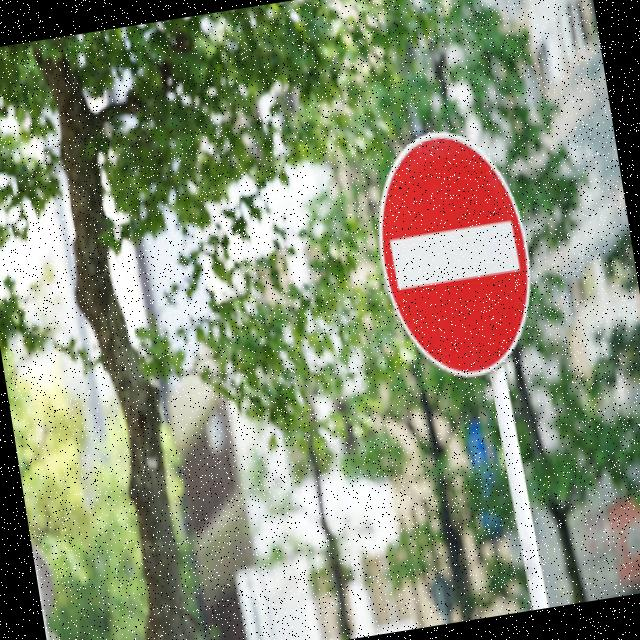do_not_enter: (358, 98, 556, 402)
